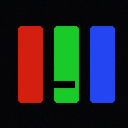3 line_h: (48, 81, 74, 87)
